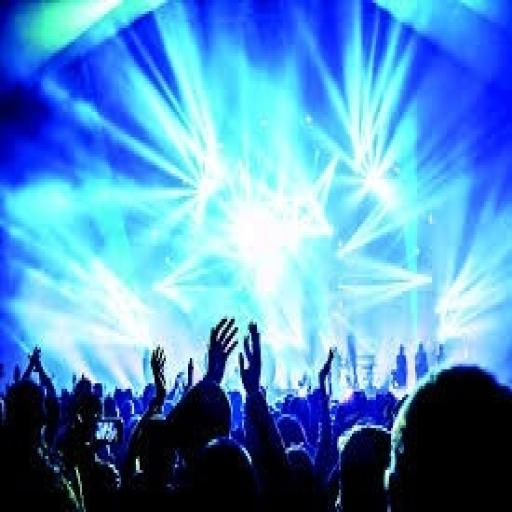clapping: (0, 314, 510, 510)
